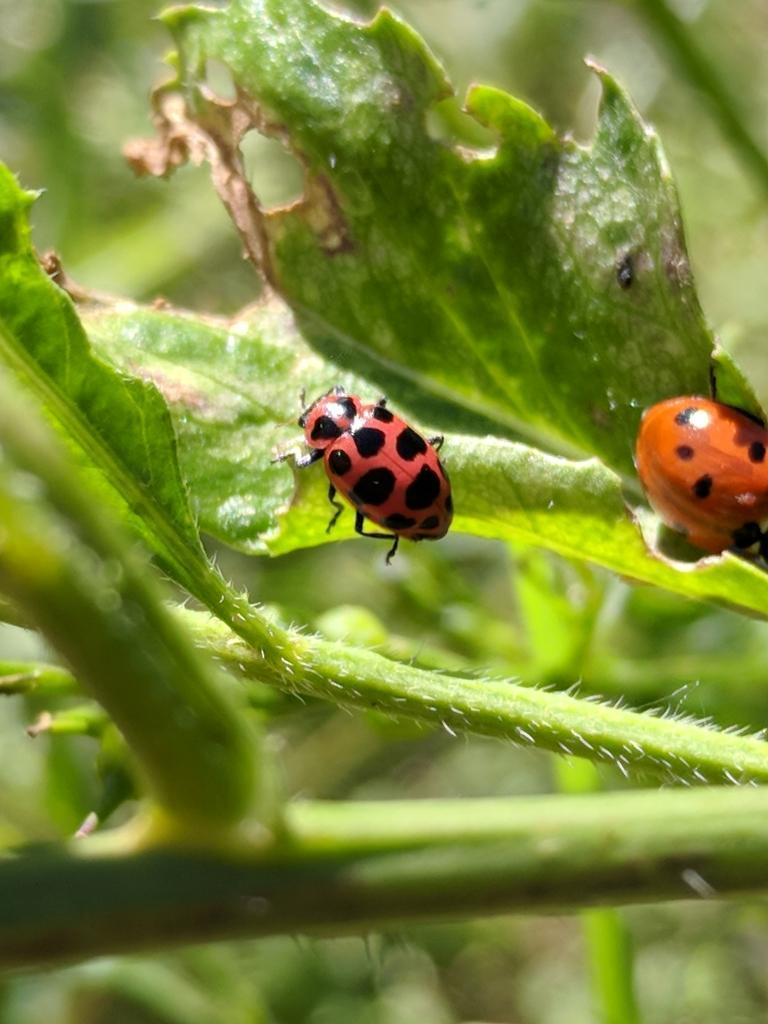ladybug: (291, 379, 461, 571), (629, 384, 768, 569)
